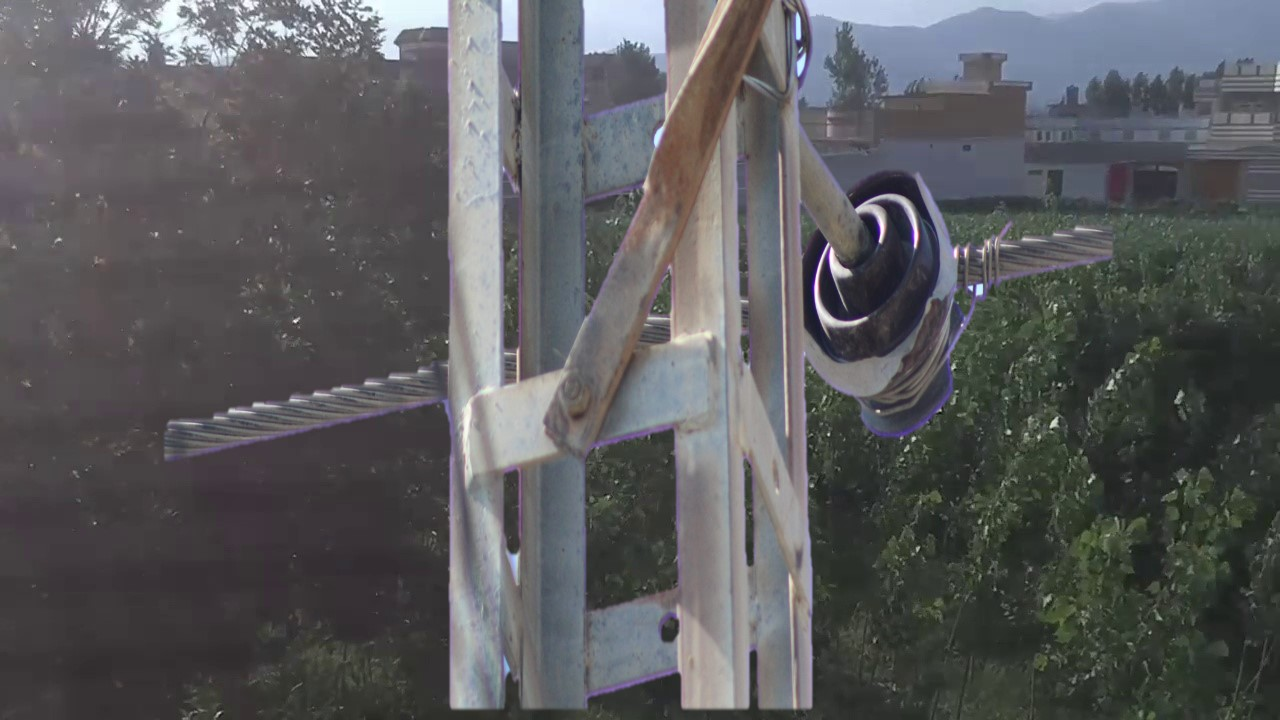defect_pin: (803, 162, 974, 447)
